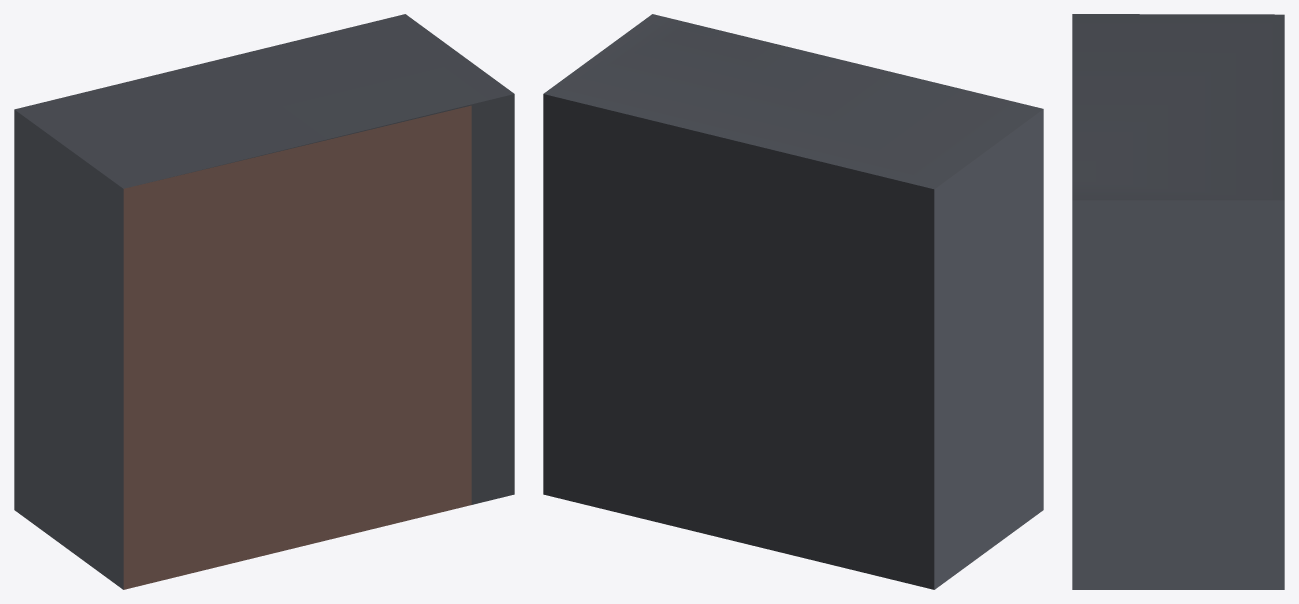
File: GreyStoneEdgeMediumLightSoilFlooringStraight1.fbx
3 renders of one model, left to right at view 1: azimuth 30°, elevation 25°; view 2: azimuth 150°, elevation 25°; view 3: azimuth 270°, elevation 25°, orthographic. The views are drawn at different scales.
Parts seen in each view (by area): view 1: SoilSurface, StoneSurface; view 2: StoneSurface; view 3: StoneSurface.
Boxes of the visible parts, bbox=[...] form: SoilSurface: bbox=[123, 105, 471, 589]; StoneSurface: bbox=[14, 14, 514, 589]; StoneSurface: bbox=[543, 14, 1043, 589]; StoneSurface: bbox=[1072, 14, 1284, 589].
Bounding box in the file's own units: 592 × 580 × 286.
2 materials, 2 textured.
